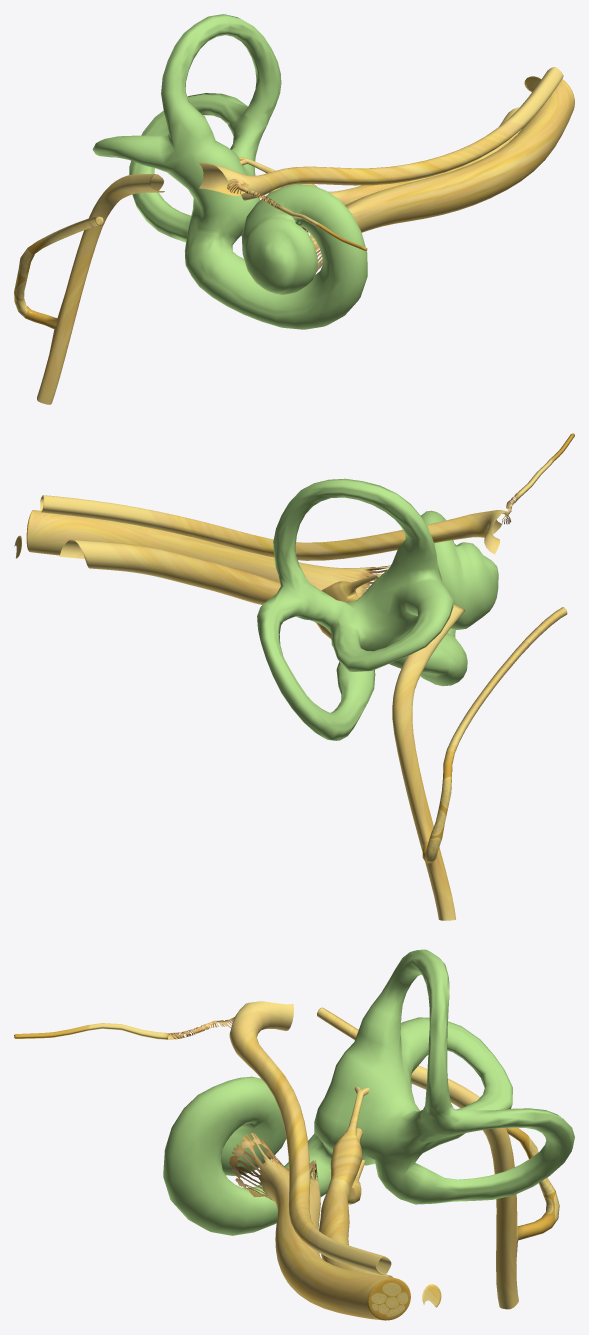
Rendered from telinga-dalam.fbx.
The picture shows the model from 3 angles, top to bottom: view 1: azimuth 30°, elevation 25°; view 2: azimuth 150°, elevation 25°; view 3: azimuth 270°, elevation 25°; orthographic projection. The views are drawn at different scales.
Visible parts, largest first — view 1: Object_10, Object_5, Object_11, Object_9; view 2: Object_10, Object_5, Object_11, Object_9; view 3: Object_10, Object_5, Object_11, Object_9.
Boxes of the visible parts, x1,y1,x2,y2 form: Object_10: [92, 14, 367, 329]; Object_5: [14, 67, 563, 404]; Object_11: [300, 79, 574, 271]; Object_9: [238, 76, 541, 204]; Object_10: [257, 478, 498, 740]; Object_5: [40, 433, 574, 920]; Object_11: [26, 510, 390, 596]; Object_9: [14, 535, 381, 638]; Object_10: [163, 949, 574, 1235]; Object_5: [14, 1001, 559, 1309]; Object_11: [229, 1133, 410, 1320]; Object_9: [319, 1086, 441, 1307].
Size of the model in its own units: 1287 by 925 by 1124.
4 materials, 3 textured.
